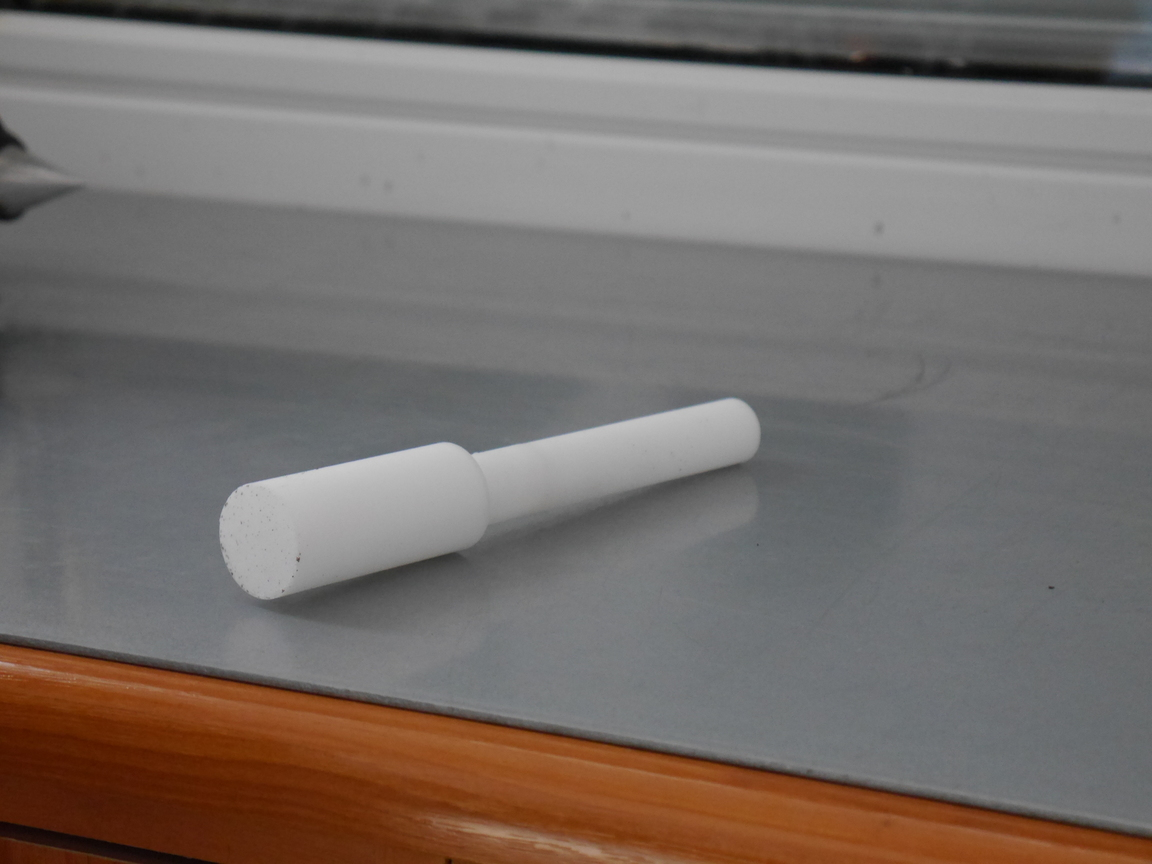cargo_g: (219, 397, 760, 603)
